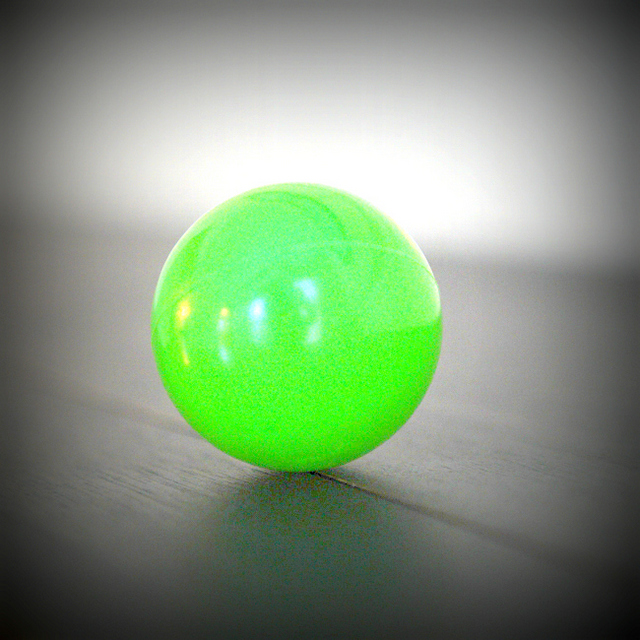Ball: (150, 186, 441, 472)
